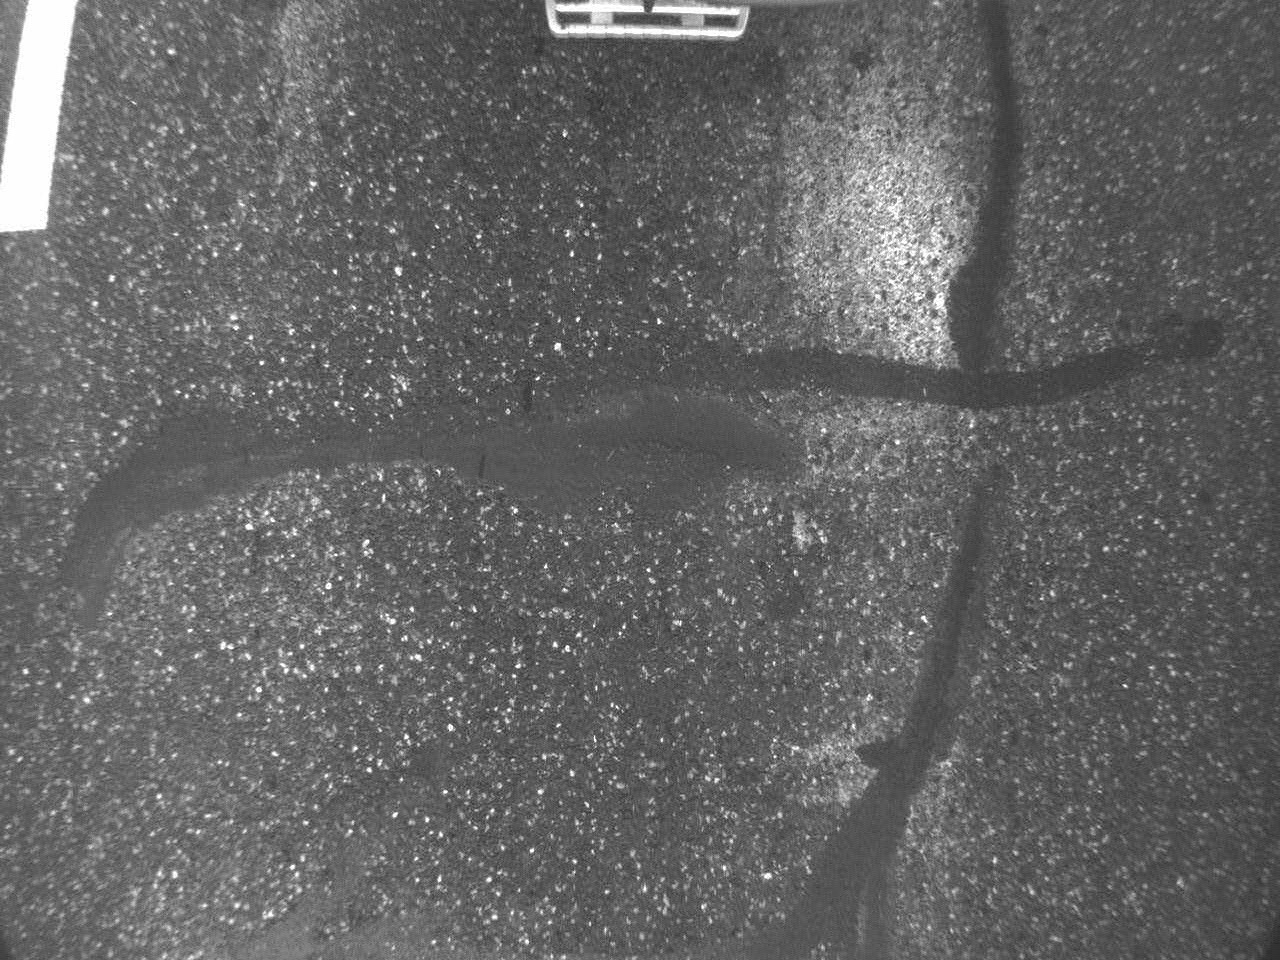sealed: (58, 391, 801, 604), (744, 612, 972, 954)
